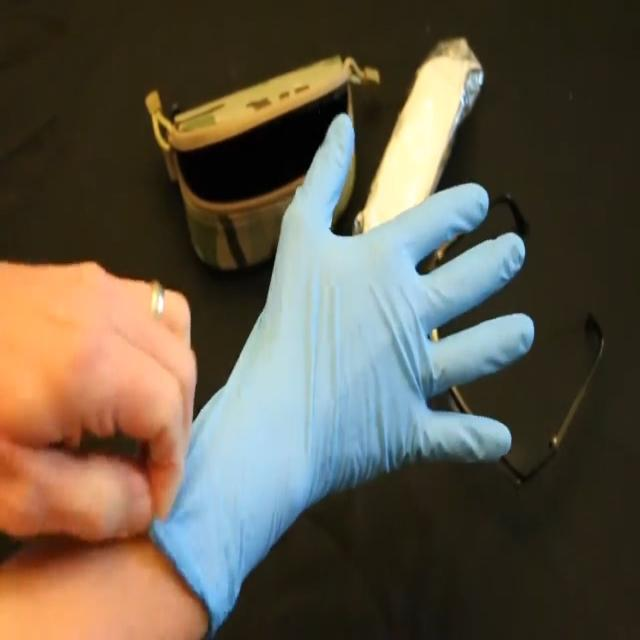Gloves: (146, 107, 536, 628)
